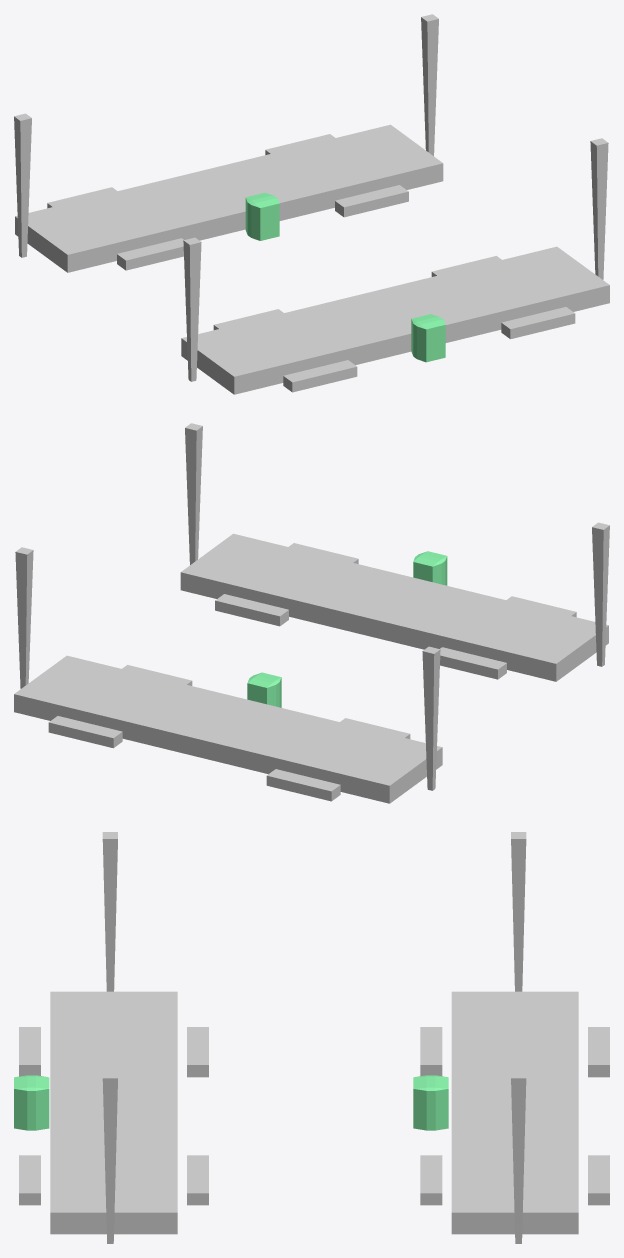
Rendered from taman_jalan.fbx.
3 renders of one model, top to bottom at view 1: azimuth 30°, elevation 25°; view 2: azimuth 150°, elevation 25°; view 3: azimuth 270°, elevation 25°, orthographic. The views are drawn at different scales.
Parts seen in each view (by area): view 1: Cube.001, Cube.012, Cube.011, Cube.010, Cube.013, Cube.014; view 2: Cube.001, Cube.012, Cube.011, Cube.010, Cube.014, Cube.013; view 3: Cube.001, Cube.012, Cube.010, Cube.011, Cube.013, Cube.014.
Boxes of the visible parts, box(x1,y1,x2,y2) form: Cube.001: box(15, 124, 609, 394); Cube.012: box(14, 14, 608, 381); Cube.011: box(47, 134, 575, 392); Cube.010: box(117, 185, 501, 329); Cube.013: box(411, 314, 445, 362); Cube.014: box(245, 192, 279, 240); Cube.001: box(14, 533, 608, 803); Cube.012: box(15, 423, 609, 790); Cube.011: box(48, 543, 576, 801); Cube.010: box(122, 594, 506, 738); Cube.014: box(247, 672, 281, 707); Cube.013: box(413, 551, 447, 585); Cube.001: box(50, 991, 578, 1234); Cube.012: box(102, 832, 526, 1243); Cube.010: box(187, 1027, 442, 1205); Cube.011: box(19, 1027, 609, 1205); Cube.013: box(14, 1075, 49, 1130); Cube.014: box(413, 1075, 448, 1130).
Bounding box in the file's own units: 1750 × 559 × 1791.
